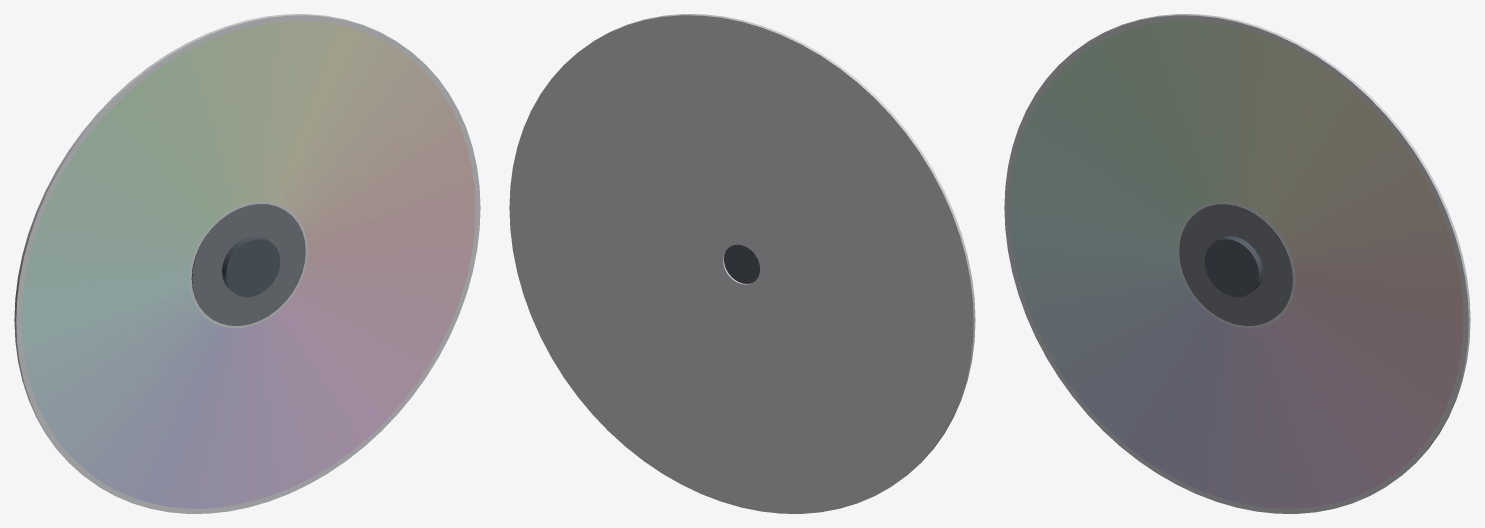
3 renders of one model, left to right at view 1: azimuth 30°, elevation 25°; view 2: azimuth 150°, elevation 25°; view 3: azimuth 330°, elevation 25°, orthographic.
Parts seen in each view (by area): view 1: diffractive silver, chrome, ink, dark; view 2: chrome, dark; view 3: diffractive silver, chrome, ink, dark.
Boxes of the visible parts, x1=… form: diffractive silver: x1=21, y1=20, x2=475, y2=508; chrome: x1=14, y1=14, x2=480, y2=513; ink: x1=191, y1=203, x2=305, y2=325; dark: x1=222, y1=236, x2=280, y2=297; chrome: x1=509, y1=14, x2=975, y2=513; dark: x1=724, y1=244, x2=759, y2=283; diffractive silver: x1=1009, y1=20, x2=1463, y2=508; chrome: x1=1004, y1=14, x2=1470, y2=513; ink: x1=1179, y1=203, x2=1293, y2=325; dark: x1=1204, y1=236, x2=1262, y2=297.
Bounding box in the file's own units: 188 × 188 × 4.65.
Materials: 4 (1 with a texture image).
